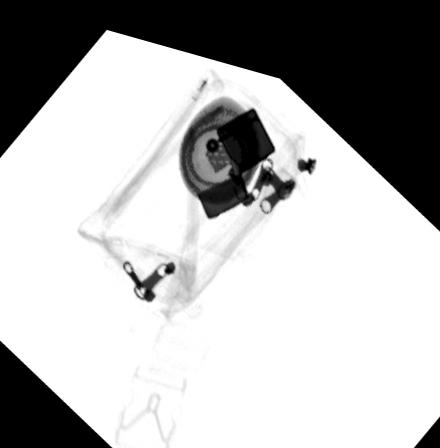Lighter: (196, 91, 276, 207)
